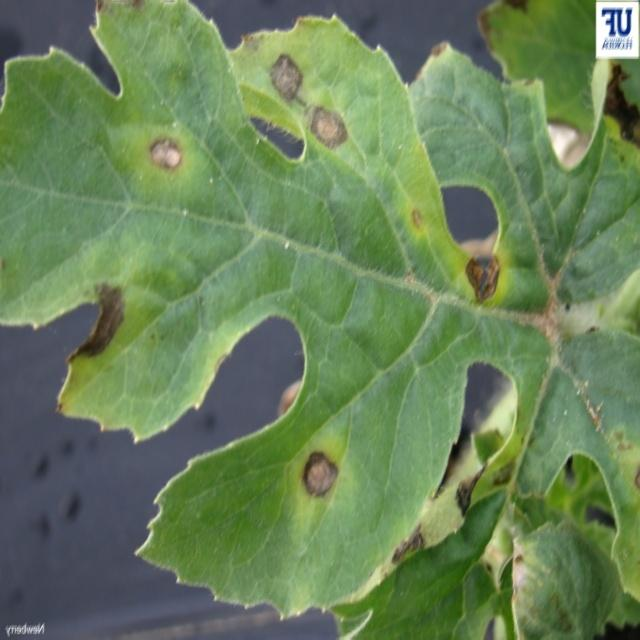shot_hole: (0, 3, 554, 638)
